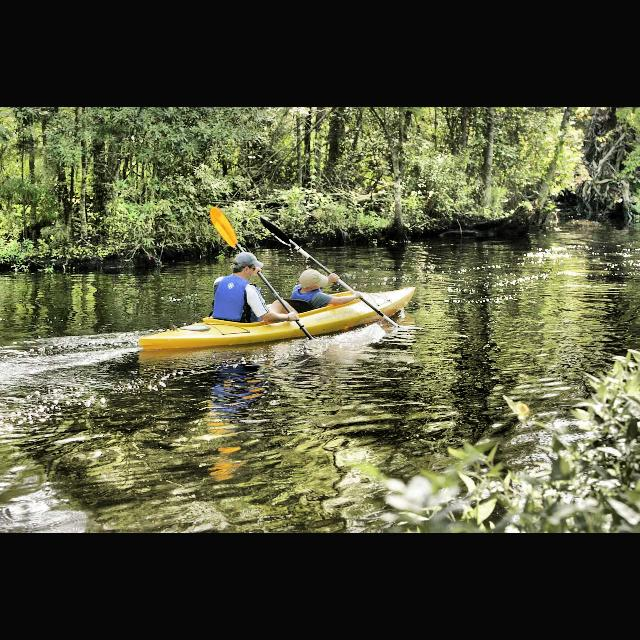kayak: (138, 286, 416, 352)
